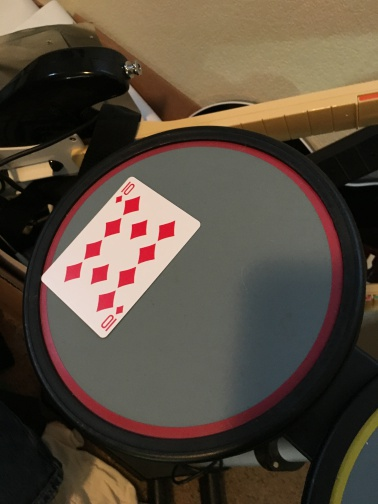ten: (41, 172, 200, 340)
